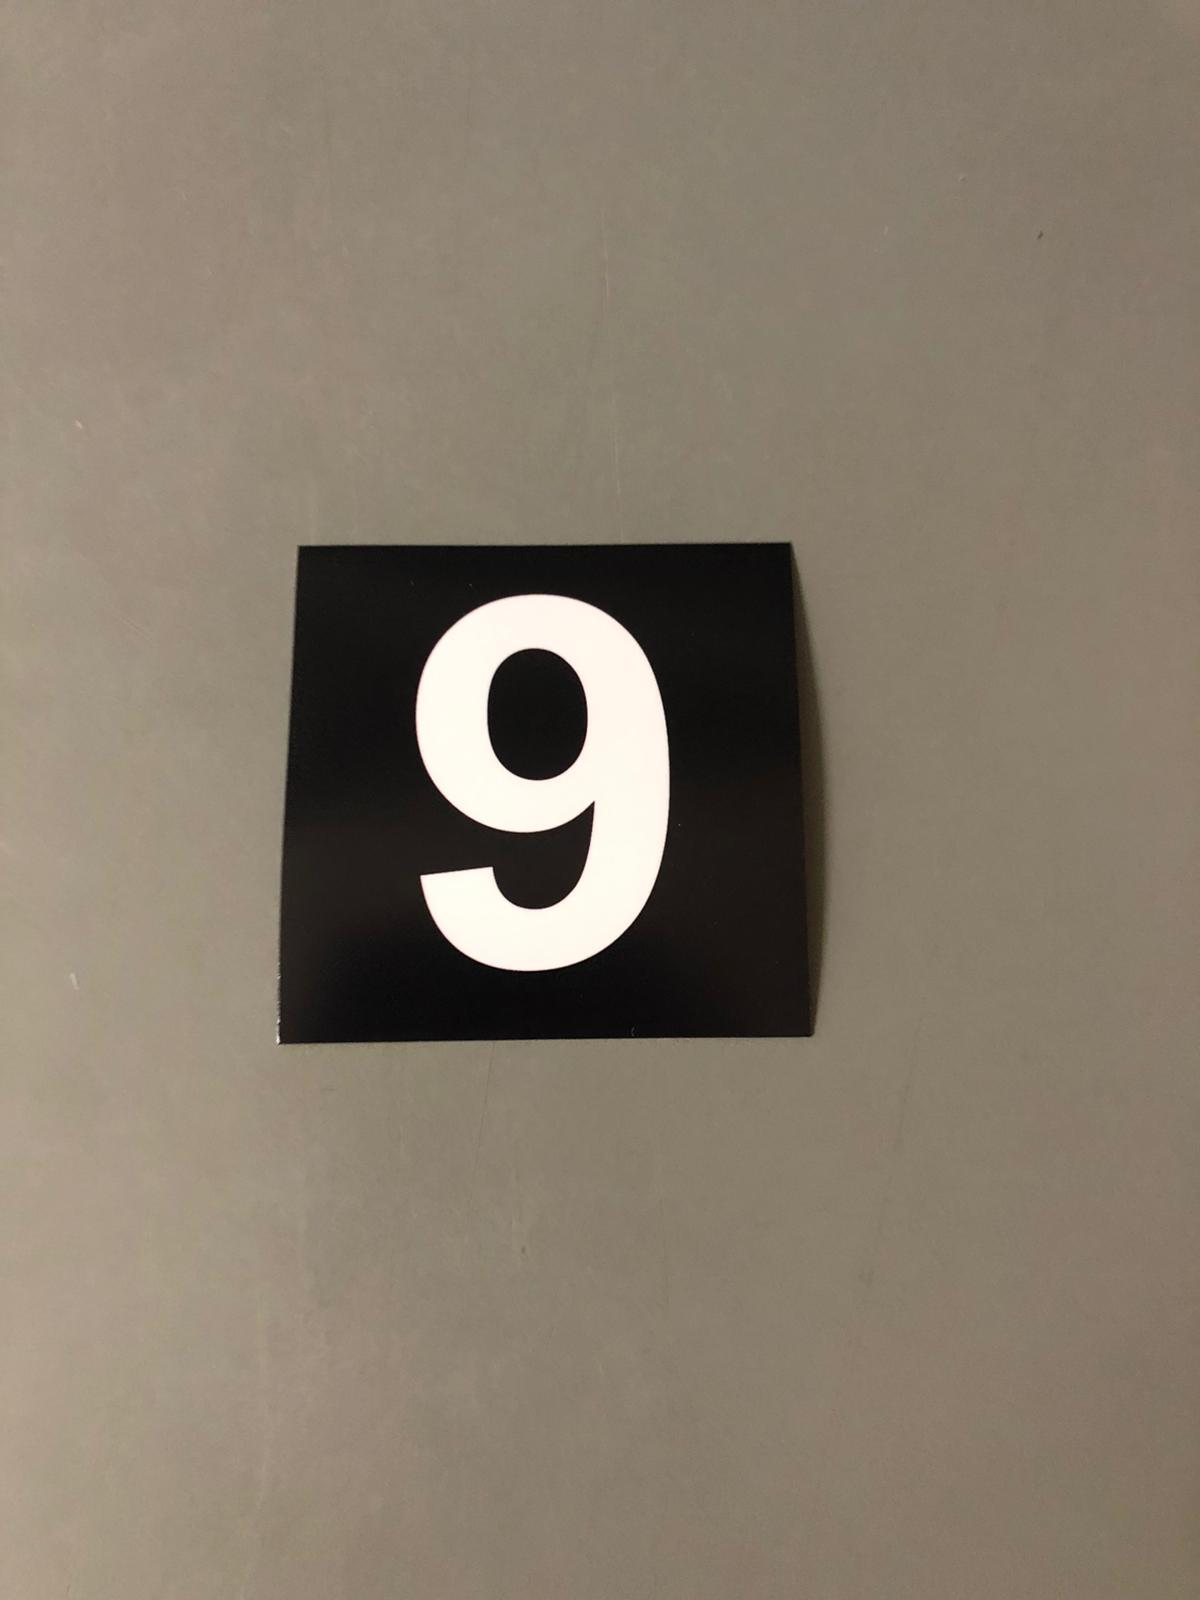Number 9: (308, 563, 769, 1026)
